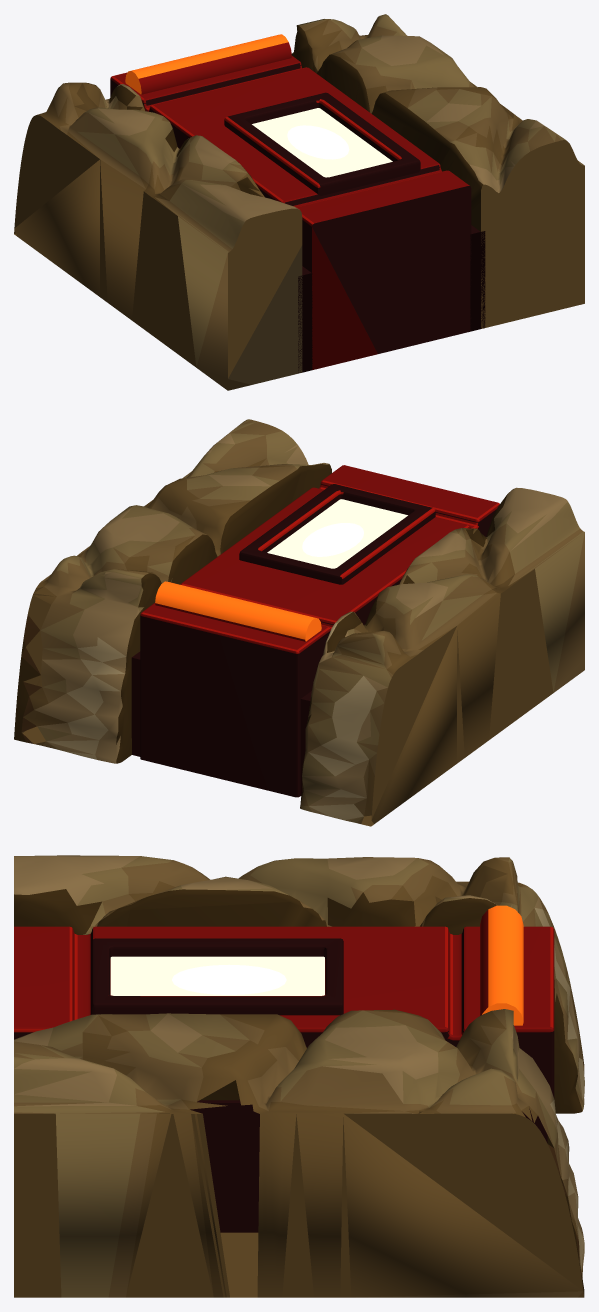
File: ixm_wall_slot_top_165.glb
3 renders of one model, top to bottom at view 1: azimuth 30°, elevation 25°; view 2: azimuth 150°, elevation 25°; view 3: azimuth 270°, elevation 25°, orthographic. The views are drawn at different scales.
Parts seen in each view (by area): view 1: ixm_wall_slot_top_165; view 2: ixm_wall_slot_top_165; view 3: ixm_wall_slot_top_165.
Boxes of the visible parts, x1,y1,x2,y2 form: ixm_wall_slot_top_165: [14, 14, 584, 390]; ixm_wall_slot_top_165: [14, 419, 584, 826]; ixm_wall_slot_top_165: [14, 855, 584, 1297].
Size of the model in its own units: 24 by 10.86 by 24.93.
